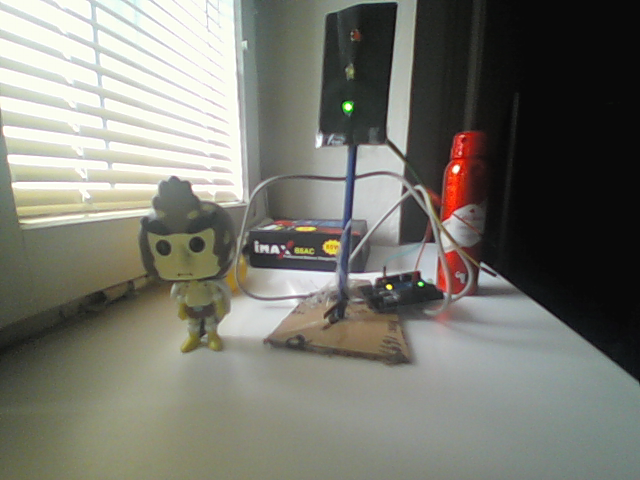green_sign: (318, 4, 399, 147)
